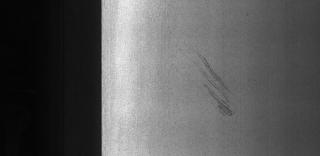water spot: (182, 50, 245, 126)
